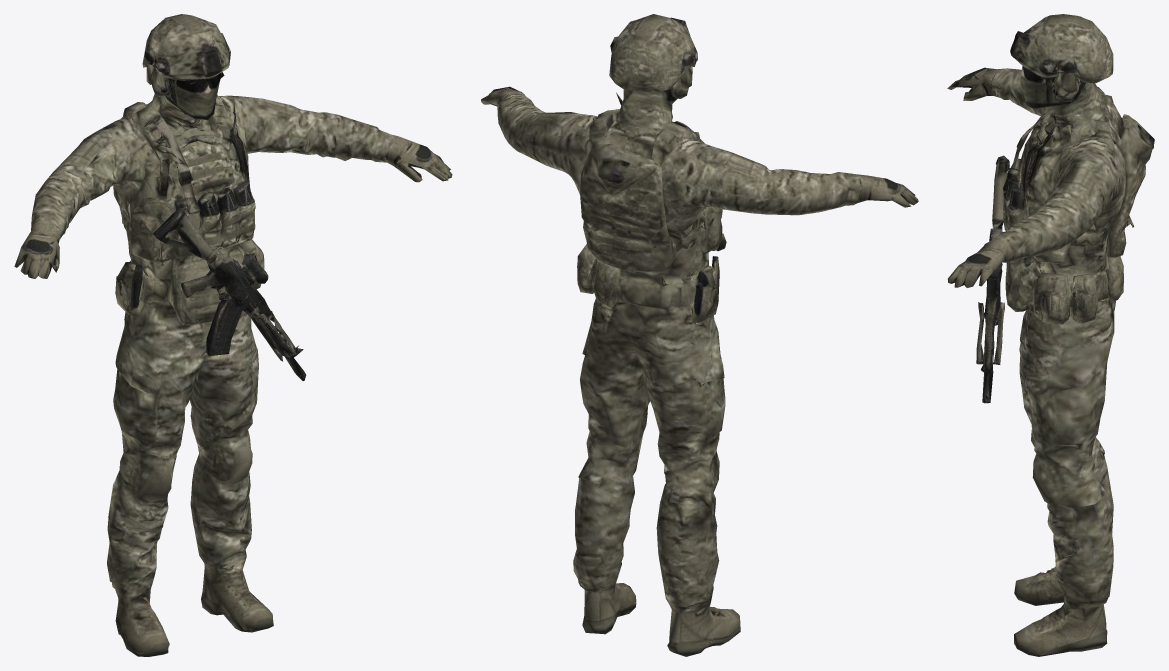
File: soldier_low.glb
The picture shows the model from 3 angles, left to right: view 1: azimuth 30°, elevation 25°; view 2: azimuth 150°, elevation 25°; view 3: azimuth 270°, elevation 25°; orthographic projection.
Bounding box in the file's own units: 1.4 × 1.9 × 0.5892.
Materials: 1 (1 with a texture image).
